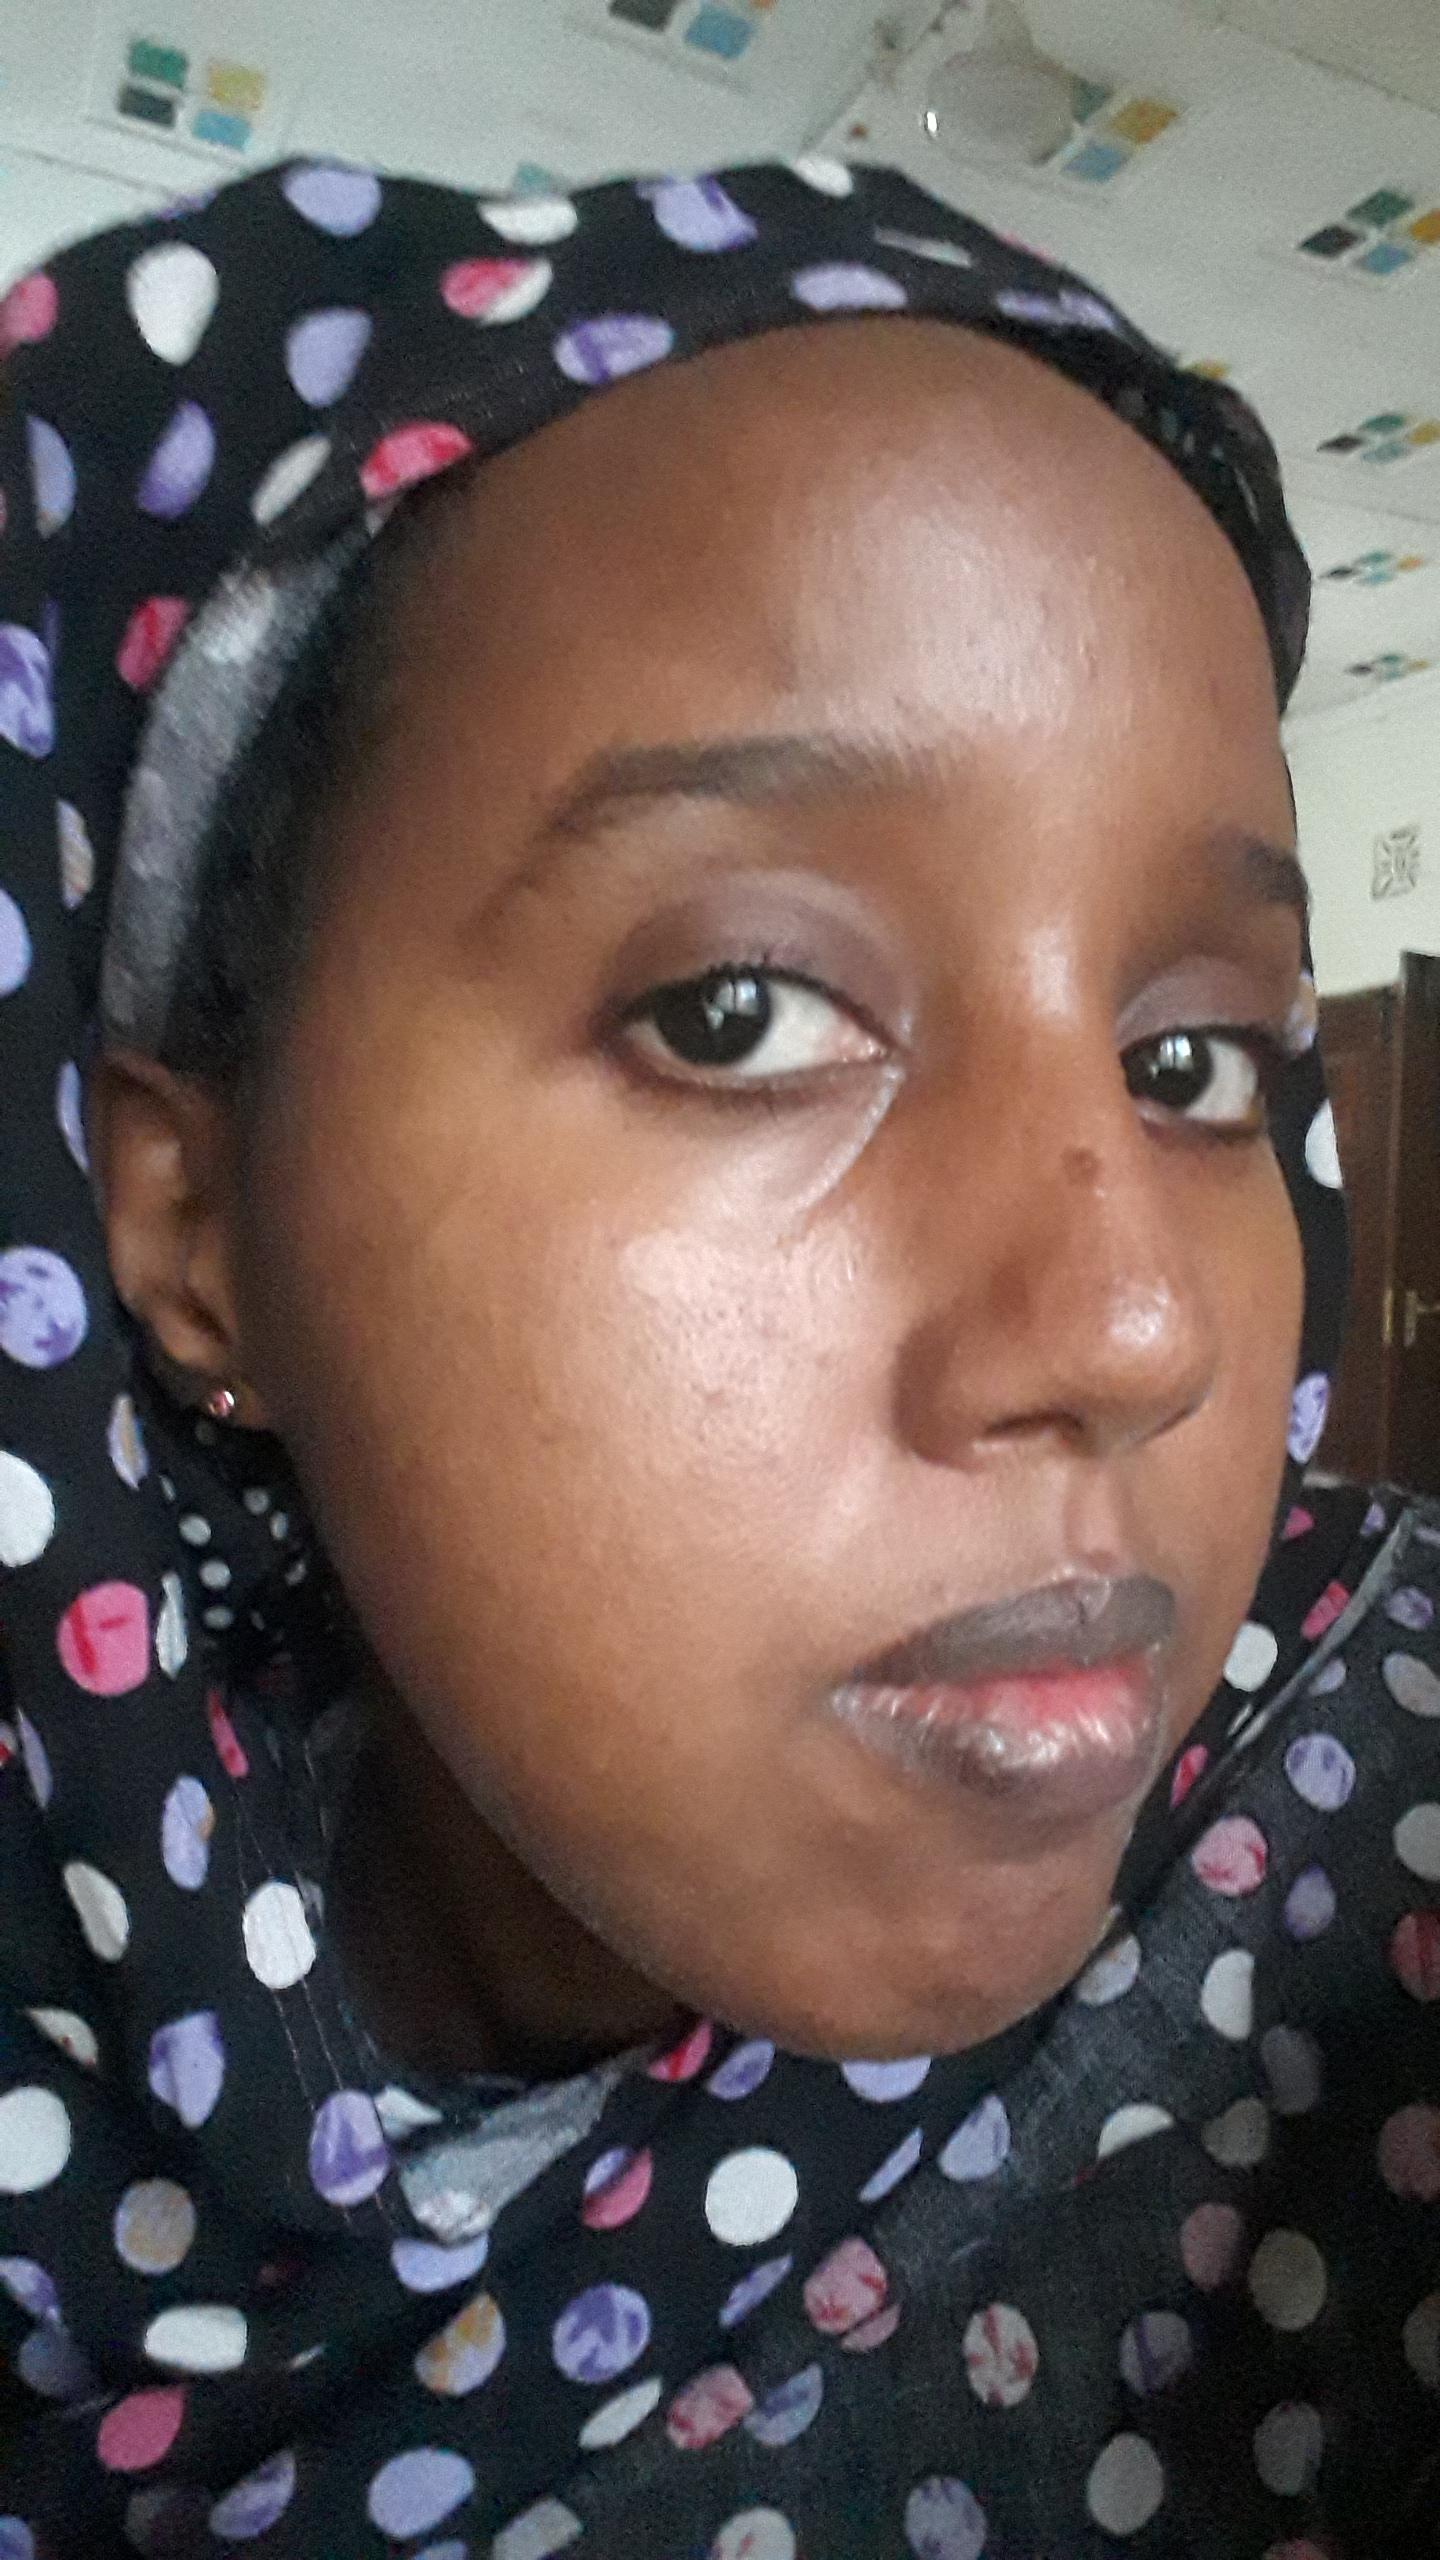Acne: (1043, 1132, 1113, 1204), (1076, 549, 1139, 601), (1067, 622, 1113, 691), (816, 1818, 874, 1858), (1076, 1540, 1129, 1582), (986, 485, 1034, 526), (923, 1574, 960, 1614)
Englarged-Pores: (624, 1268, 828, 1503)
